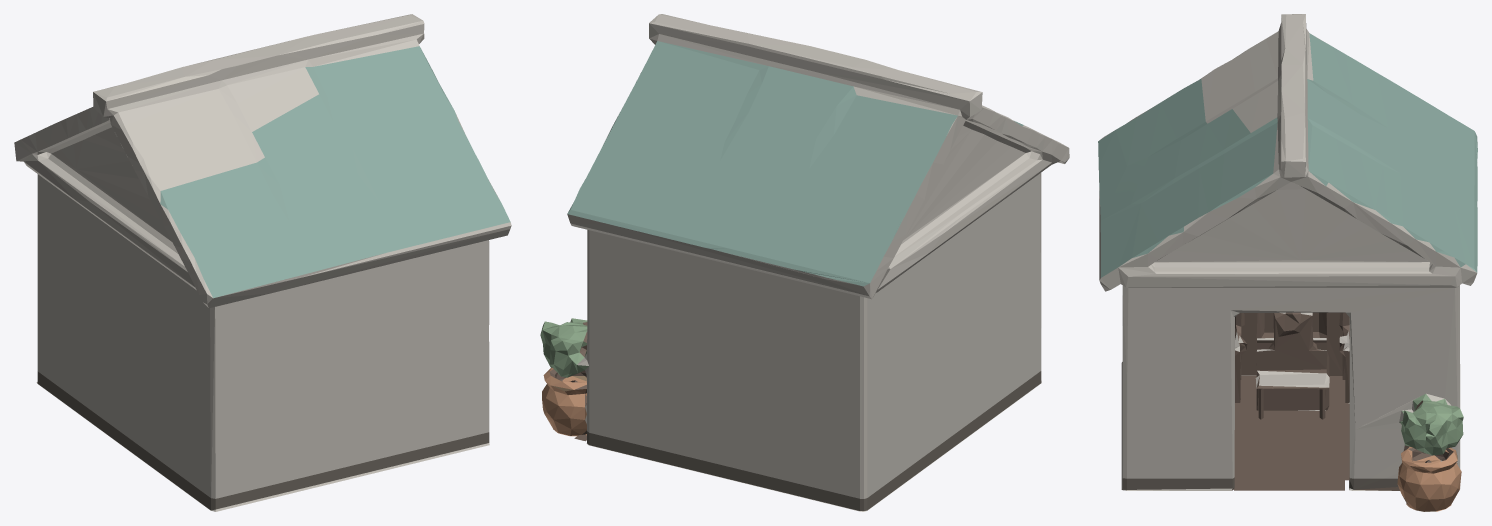
3 views of the same model, side by side, from view 1: azimuth 30°, elevation 25°; view 2: azimuth 150°, elevation 25°; view 3: azimuth 270°, elevation 25° (orthographic). The views are drawn at different scales.
Parts seen in each view (by area): view 1: geometry_0; view 2: geometry_0; view 3: geometry_0.
Boxes of the visible parts, left/top/right/bottom form: geometry_0: left=14, top=14, right=511, bottom=511; geometry_0: left=540, top=14, right=1069, bottom=511; geometry_0: left=1098, top=14, right=1477, bottom=511.
Bounding box in the file's own units: 0.9194 × 0.8761 × 0.8841.
